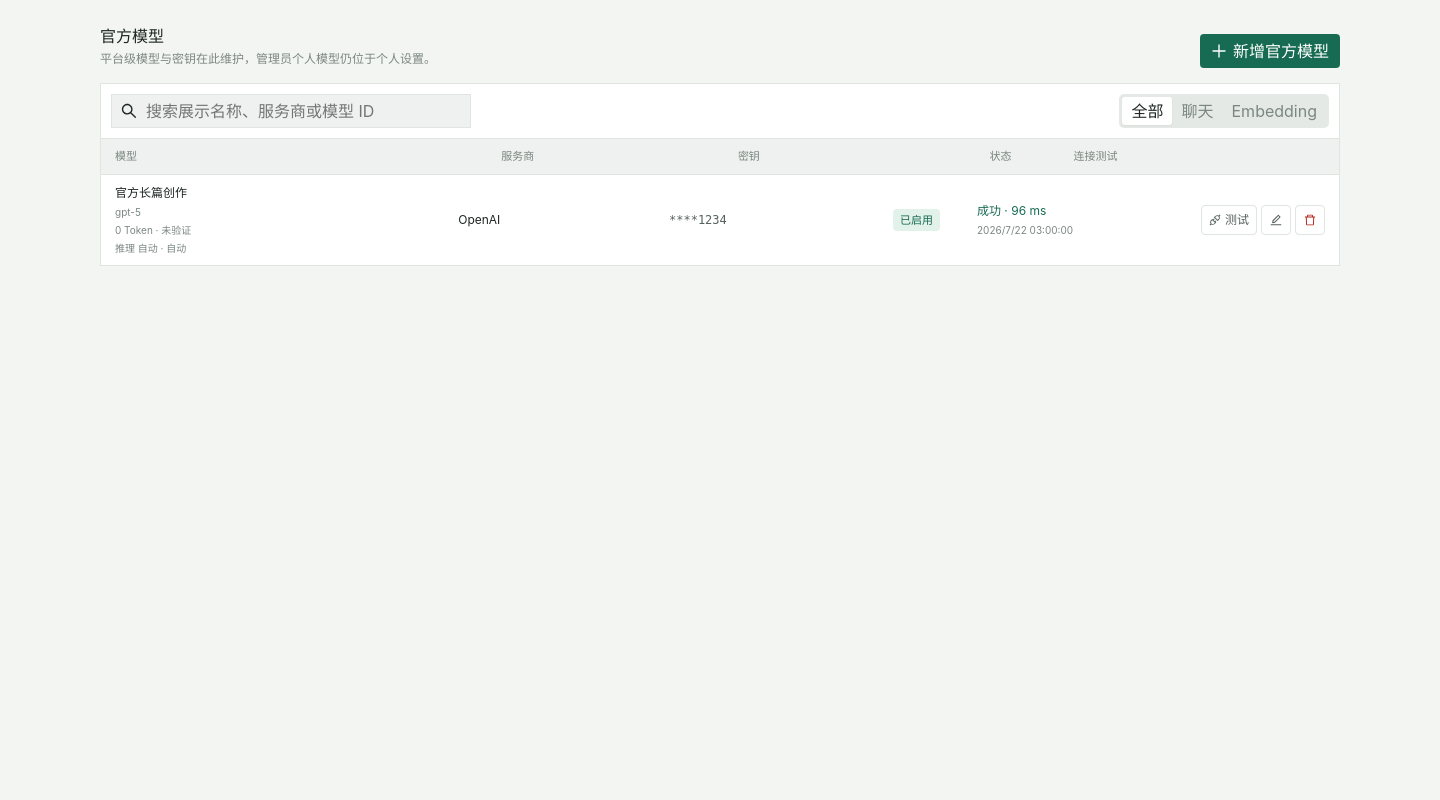
it: AdminOfficialModels › discovers official models through the protected system endpoint
Click the button named "编辑官方模型" at (1276,220), box [1261,205,1291,235]
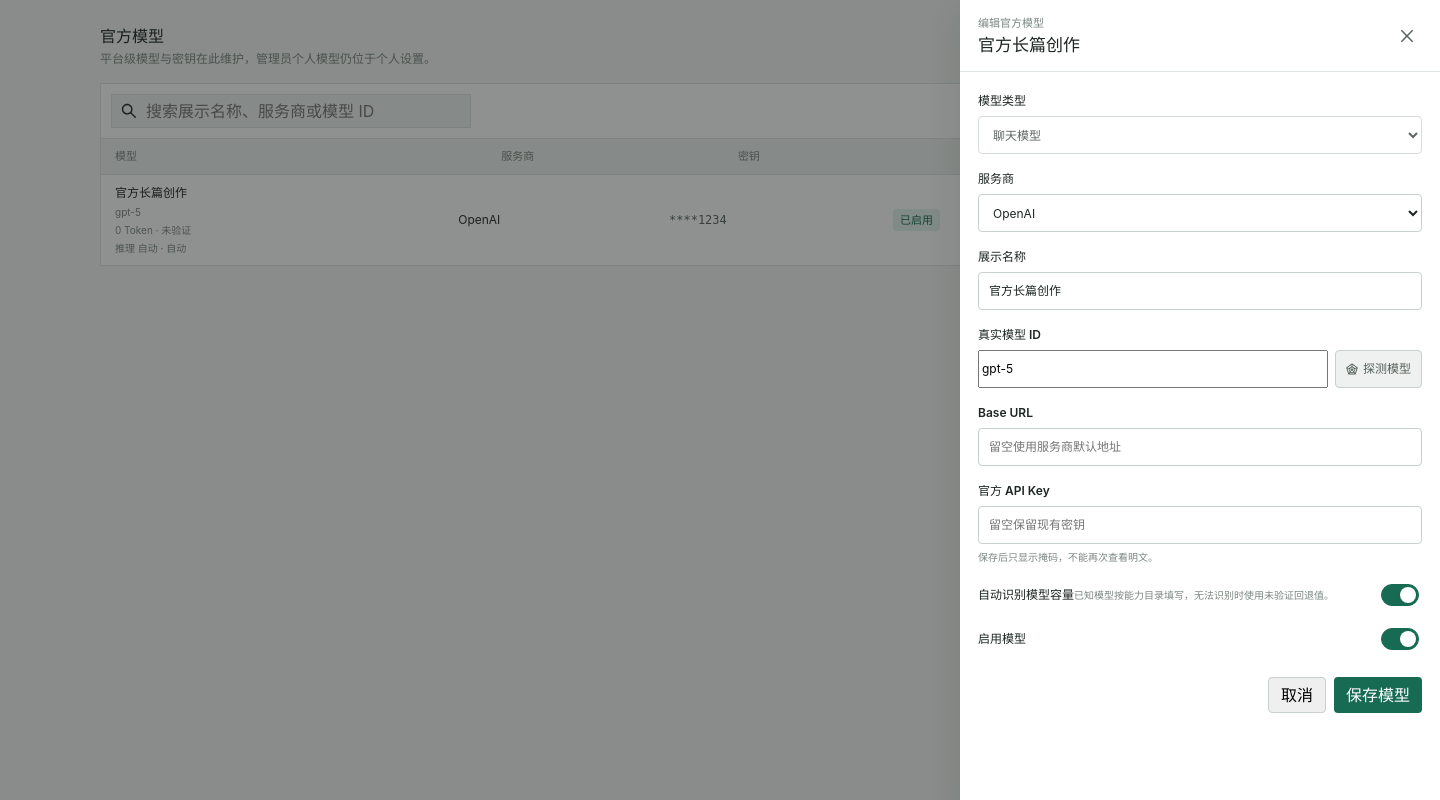
Click the button with class "discover-button" at (1378,369), box [1335,350,1422,388]
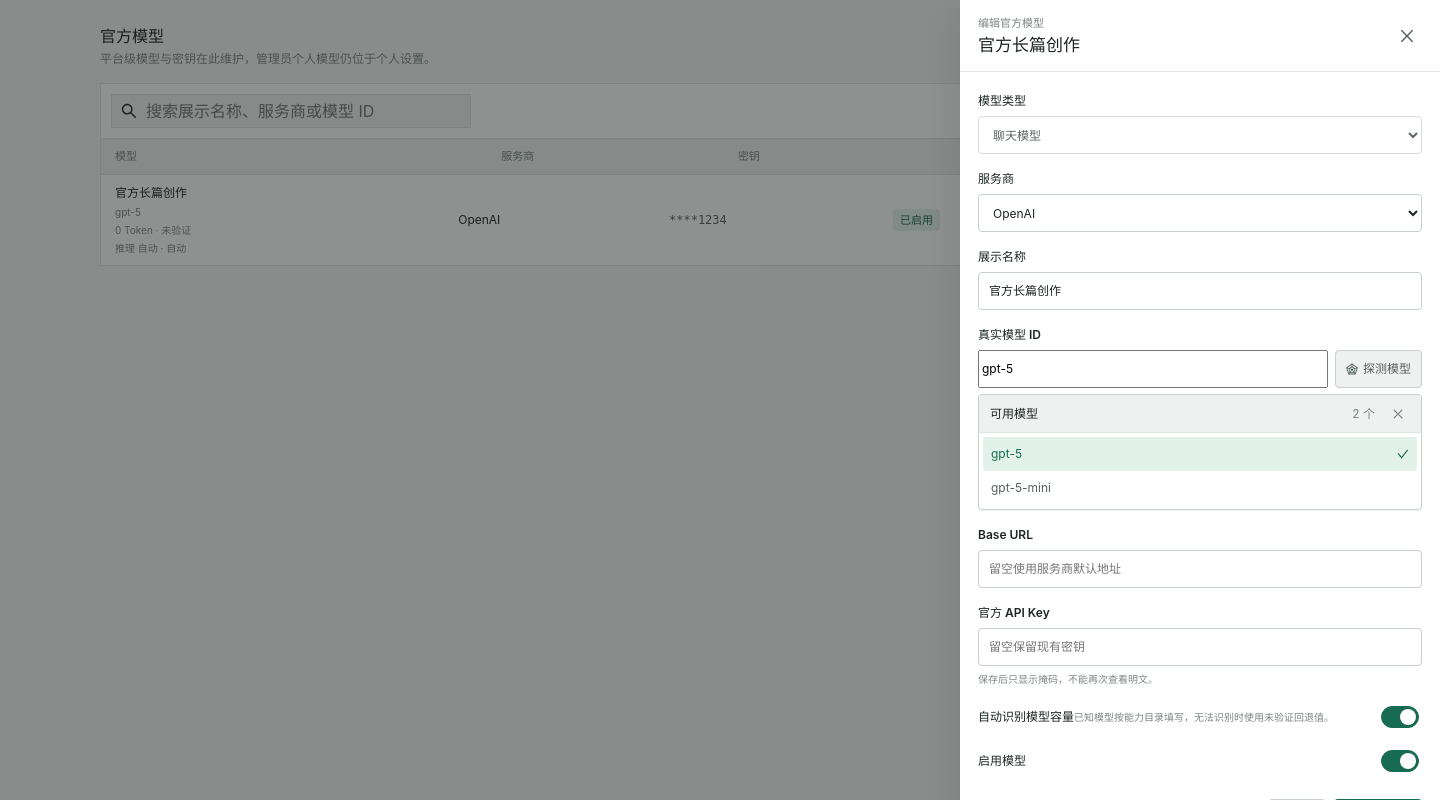
Expected: the list shows "gpt-5-mini", [983,471,1417,505]
